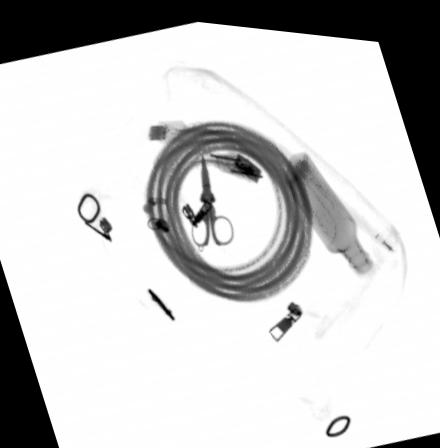Scissors: (188, 151, 235, 246)
